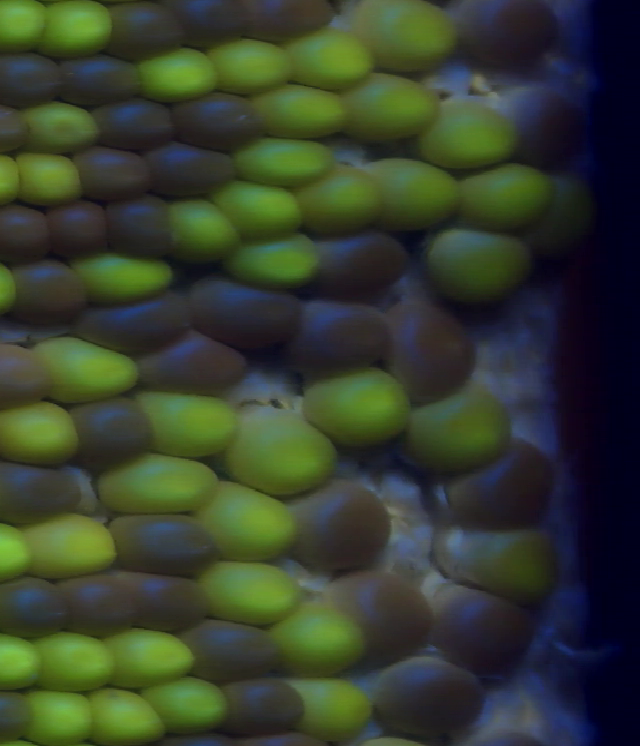fluorescent: (437, 524, 555, 609), (233, 404, 333, 497), (303, 369, 410, 448), (404, 393, 509, 473), (202, 478, 298, 564), (96, 454, 218, 516), (425, 225, 528, 297), (420, 92, 515, 168), (273, 604, 368, 676), (359, 2, 460, 69), (143, 389, 236, 459), (458, 160, 548, 232), (203, 563, 304, 627), (41, 335, 138, 400), (341, 75, 438, 140), (295, 169, 382, 237), (376, 159, 459, 230), (259, 82, 347, 142), (218, 181, 303, 243), (219, 235, 318, 288), (209, 37, 287, 98), (30, 517, 113, 574), (288, 37, 374, 92), (236, 138, 332, 187), (40, 632, 118, 692), (113, 628, 191, 688), (0, 403, 73, 467), (83, 250, 173, 301), (294, 676, 373, 732), (167, 196, 234, 261), (536, 174, 588, 254), (153, 675, 226, 730), (21, 102, 98, 152), (47, 1, 113, 57), (92, 689, 160, 742), (28, 691, 92, 746), (138, 51, 207, 102), (20, 152, 81, 208), (0, 1, 48, 55), (0, 635, 41, 692), (0, 522, 30, 582)
nonfluorescent: (443, 442, 553, 530), (428, 582, 528, 676), (321, 573, 430, 656), (288, 481, 388, 571), (375, 657, 480, 733), (387, 307, 468, 402), (139, 329, 243, 399), (289, 302, 386, 377), (194, 278, 299, 347), (453, 3, 557, 65), (315, 230, 406, 296), (512, 87, 580, 170), (113, 513, 207, 573), (187, 617, 280, 677), (85, 295, 188, 349), (77, 395, 147, 466), (223, 675, 306, 732), (178, 92, 258, 151), (14, 259, 81, 327), (147, 147, 236, 197), (0, 462, 78, 518), (59, 51, 138, 106), (0, 576, 70, 638), (110, 2, 180, 62), (96, 101, 177, 152), (63, 576, 132, 634), (108, 199, 173, 259), (130, 573, 198, 630), (76, 146, 148, 198), (181, 1, 251, 52), (45, 202, 109, 256), (248, 1, 333, 41), (0, 52, 59, 107), (0, 344, 52, 406), (0, 201, 46, 262), (0, 689, 31, 743), (0, 106, 32, 153)
